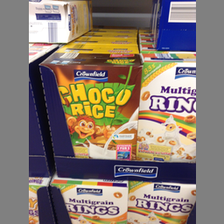cereal: (38, 53, 142, 161), (141, 51, 196, 161)
